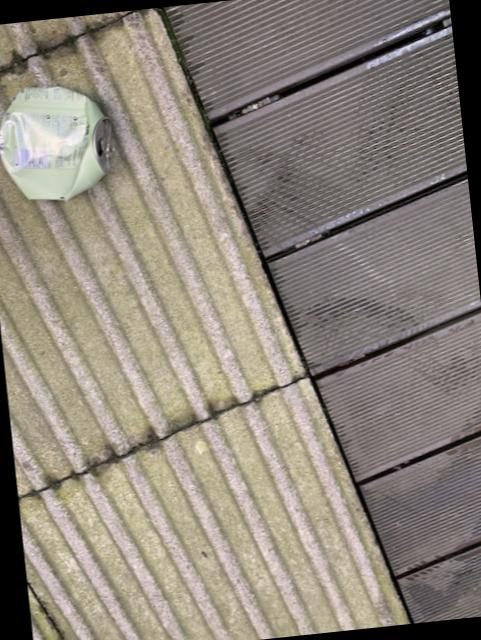metal: (0, 87, 113, 200)
